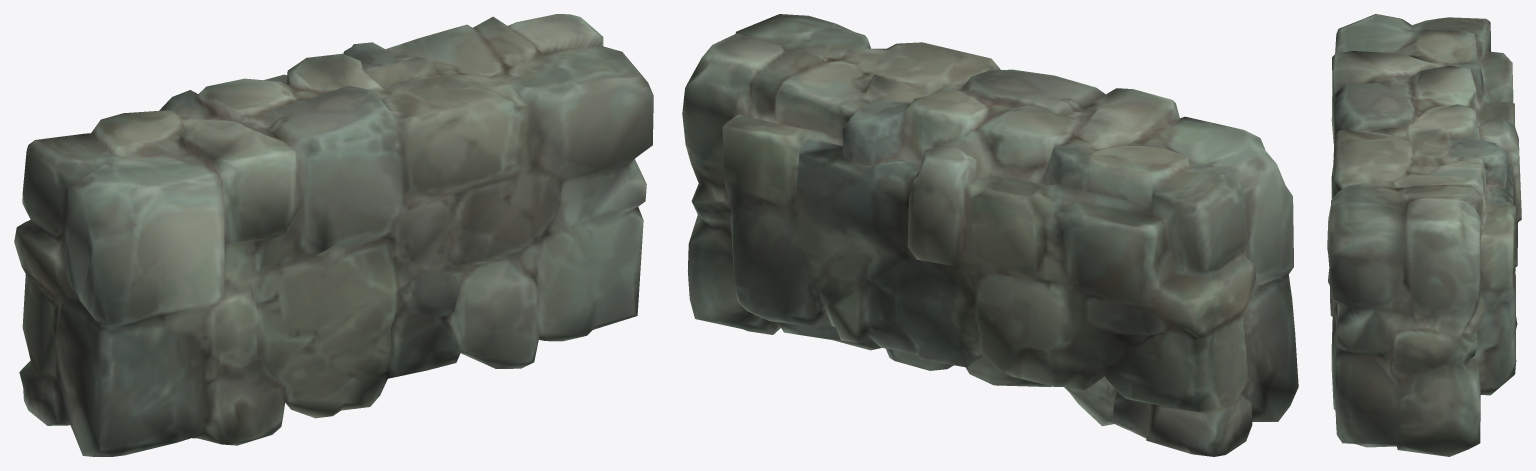
The model's file is Wall_Cnr_Top_A.fbx.
The picture shows the model from 3 angles, left to right: view 1: azimuth 30°, elevation 25°; view 2: azimuth 150°, elevation 25°; view 3: azimuth 270°, elevation 25°; orthographic projection. The views are drawn at different scales.
Parts seen in each view (by area): view 1: Wall_Cnr_Top_A; view 2: Wall_Cnr_Top_A; view 3: Wall_Cnr_Top_A.
Part boxes in pixels (<box>): Wall_Cnr_Top_A: <box>14,14,653,456</box>; Wall_Cnr_Top_A: <box>682,14,1298,456</box>; Wall_Cnr_Top_A: <box>1327,14,1521,456</box>.
Size of the model in its own units: 858 by 445 by 304.
